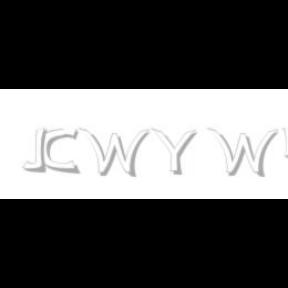C: (42, 128, 78, 174)
J: (22, 128, 46, 172)
W: (78, 128, 150, 178), (207, 128, 279, 178)
Y: (151, 128, 197, 176)
